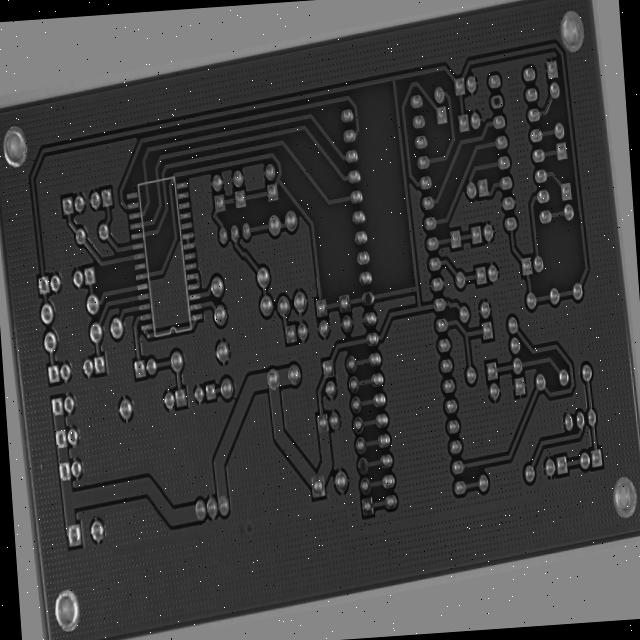missing_hole: (361, 292, 379, 317), (351, 476, 367, 504), (502, 89, 520, 113)
